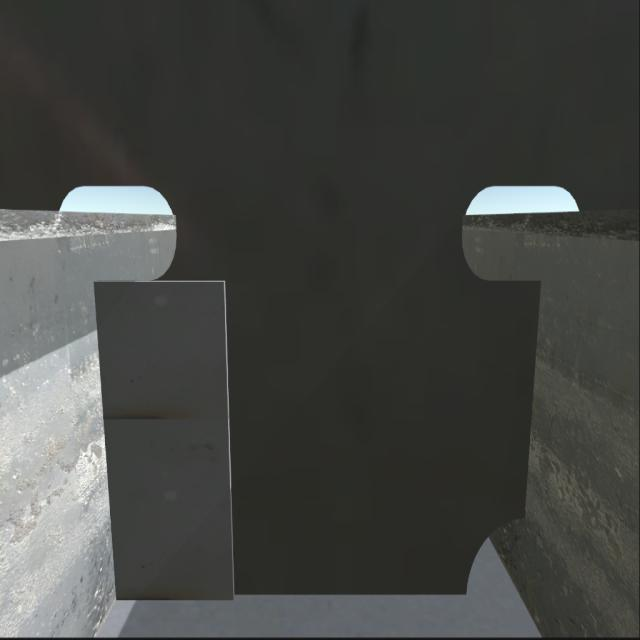fillet_yong_jeop_jang: (103, 578, 474, 604)
longi_yong_jeop_jang: (90, 270, 120, 598), (512, 274, 546, 524)
plate_CP01: (100, 275, 228, 607), (462, 518, 530, 595)
